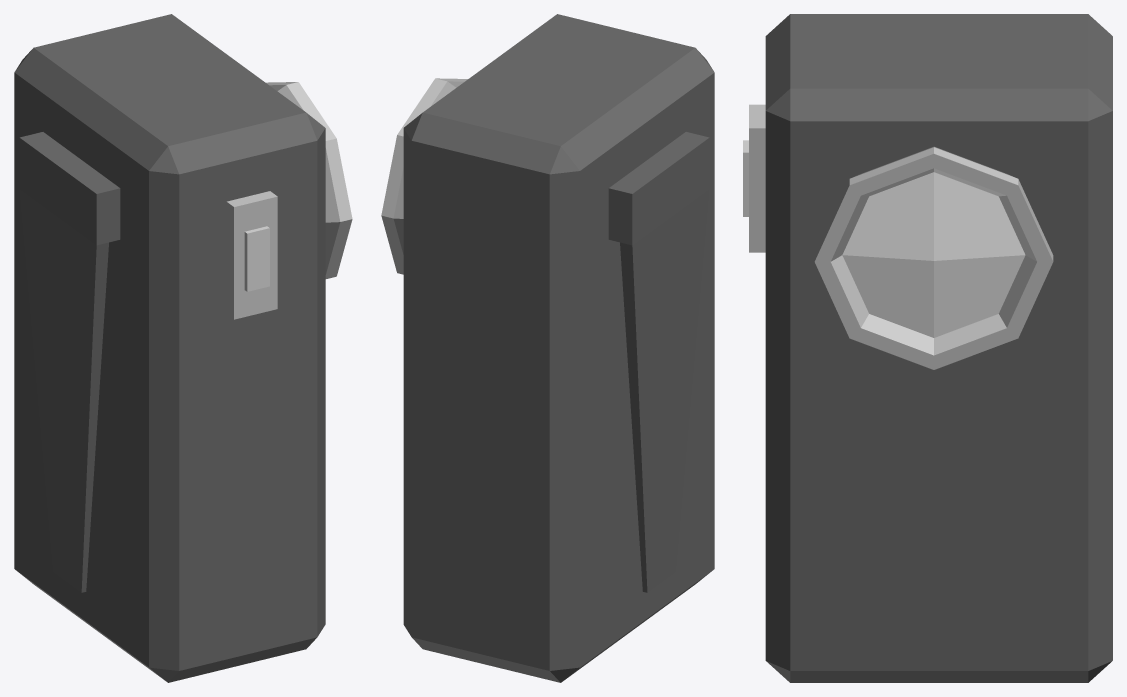
File: Fanar2.fbx
3 renders of one model, left to right at view 1: azimuth 30°, elevation 25°; view 2: azimuth 150°, elevation 25°; view 3: azimuth 270°, elevation 25°, orthographic. The views are drawn at different scales.
Parts seen in each view (by area): view 1: fanar 2; view 2: fanar 2; view 3: fanar 2.
Boxes of the visible parts, x1,y1,x2,y2 form: fanar 2: [14, 14, 352, 682]; fanar 2: [381, 14, 714, 682]; fanar 2: [743, 14, 1112, 682].
Size of the model in its own units: 175 by 378 by 213.
Materials: 1 (1 with a texture image).
